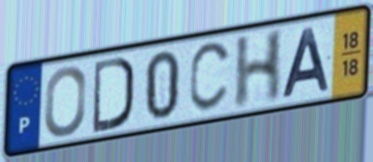0: (143, 48, 184, 122)
A: (280, 25, 333, 101)
C: (186, 38, 234, 116)
D: (91, 53, 136, 136)
H: (232, 26, 286, 113)
O: (42, 63, 89, 140)
